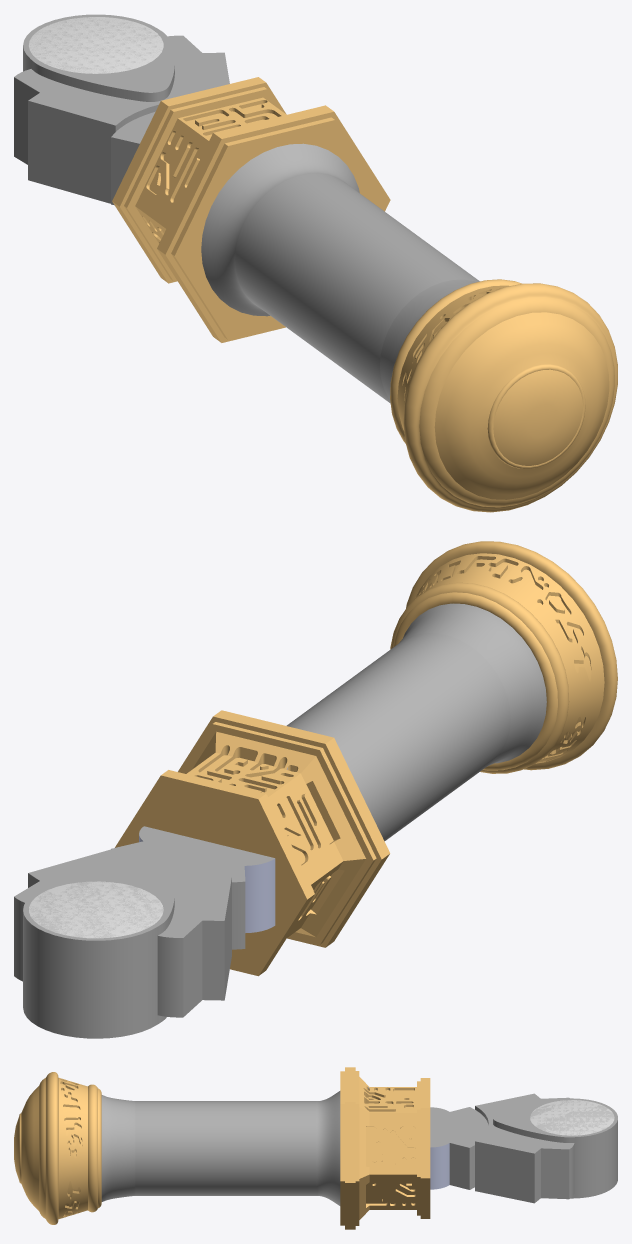
File: 神光棒主体.fbx
3 views of the same model, one above another, from view 1: azimuth 30°, elevation 25°; view 2: azimuth 150°, elevation 25°; view 3: azimuth 270°, elevation 25° (orthographic). The views are drawn at different scales.
Visible parts, largest first — view 1: __-__16 (×4), __(__)3, __-__17, __5[1], __-__20, __-__19 (×2), __-__18; view 2: __-__16 (×3), __(__)3 (×2), __-__19 (×3), __-__18, __-__17, __5[1], __-__20; view 3: __-__16 (×4), __(__)3 (×2), __-__17, __-__19 (×3), __-__18, __5[1], __-__20.
Part boxes in pixels (x1,y1,x2,y2): __-__16 (×4): [124, 87, 479, 403]; __(__)3: [390, 279, 617, 512]; __-__17: [14, 35, 229, 203]; __5[1]: [29, 17, 163, 73]; __-__20: [29, 17, 163, 73]; __-__19 (×2): [111, 77, 286, 283]; __-__18: [23, 14, 174, 101]; __-__16 (×3): [178, 603, 546, 947]; __(__)3 (×2): [390, 541, 617, 773]; __-__19 (×3): [111, 770, 314, 976]; __-__18: [23, 862, 174, 1038]; __-__17: [14, 848, 231, 1017]; __5[1]: [29, 881, 163, 938]; __-__20: [28, 881, 163, 938]; __-__16 (×4): [101, 1067, 420, 1229]; __(__)3 (×2): [14, 1072, 101, 1224]; __-__17: [475, 1093, 574, 1203]; __-__19 (×3): [420, 1078, 488, 1218]; __-__18: [493, 1098, 617, 1198]; __5[1]: [530, 1100, 614, 1135]; __-__20: [530, 1100, 614, 1135].
Size of the model in its own units: 192 by 714 by 181.
